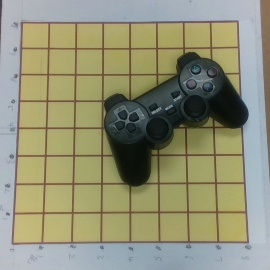remote: (101, 52, 248, 190)
